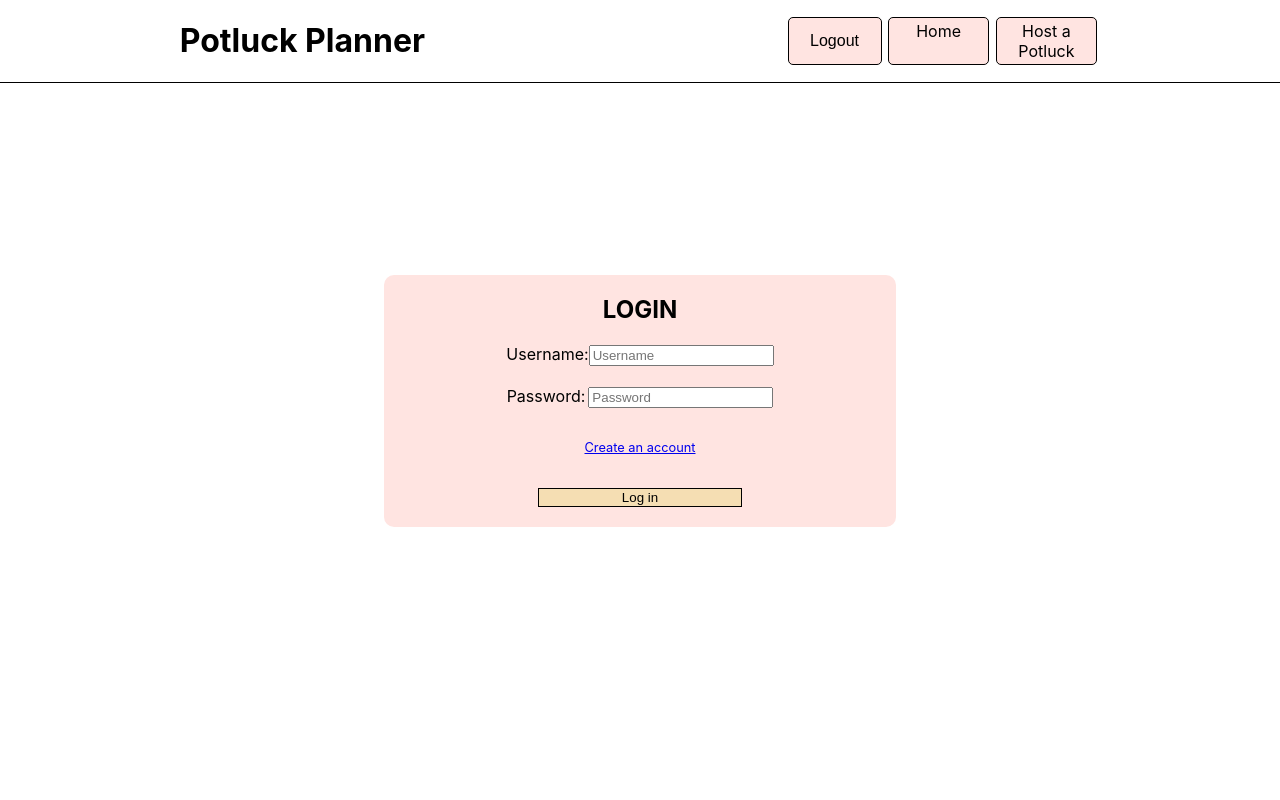
Test: Input and login button › verify the error messages appear when you dont meet the requirements
Type "joebay24" into the field named "username" at (682, 356), box top-left (589, 345), bottom-right (774, 366)
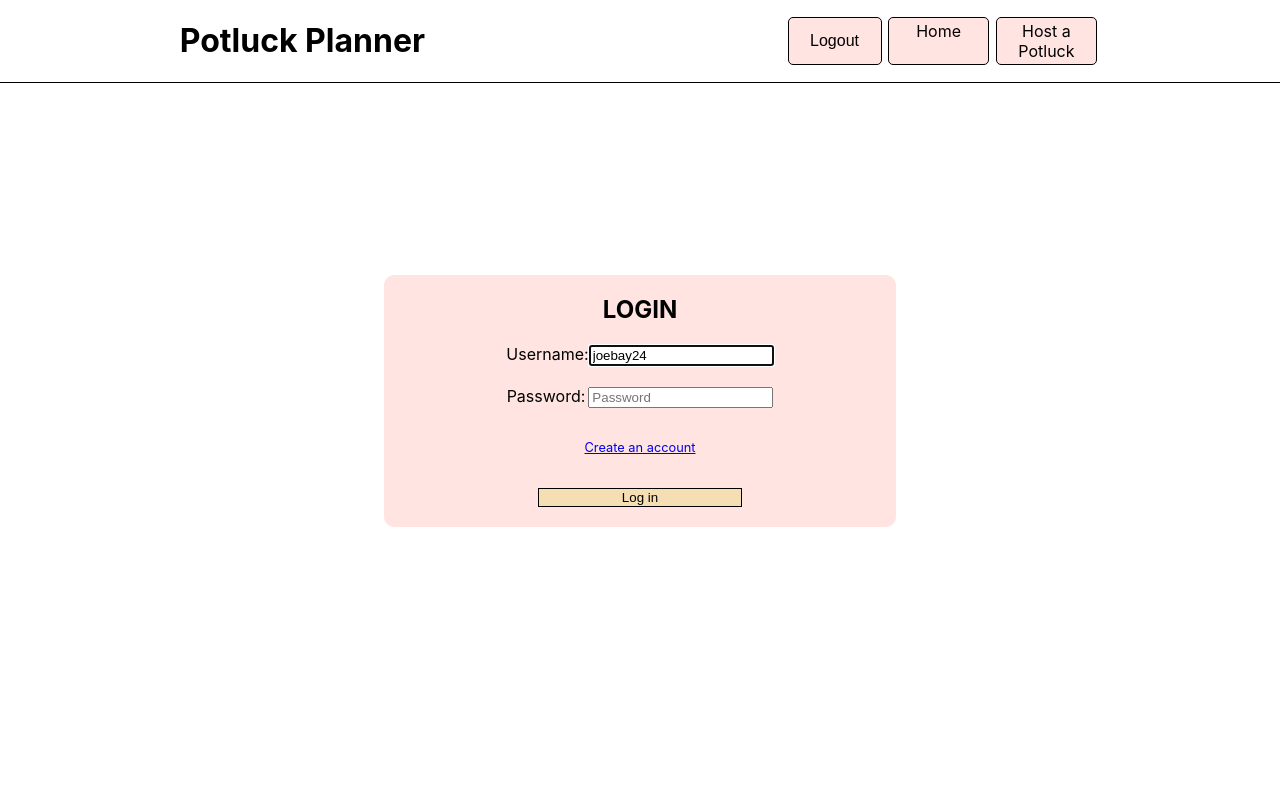
Clear the field named "username" at (682, 356), box top-left (589, 345), bottom-right (774, 366)
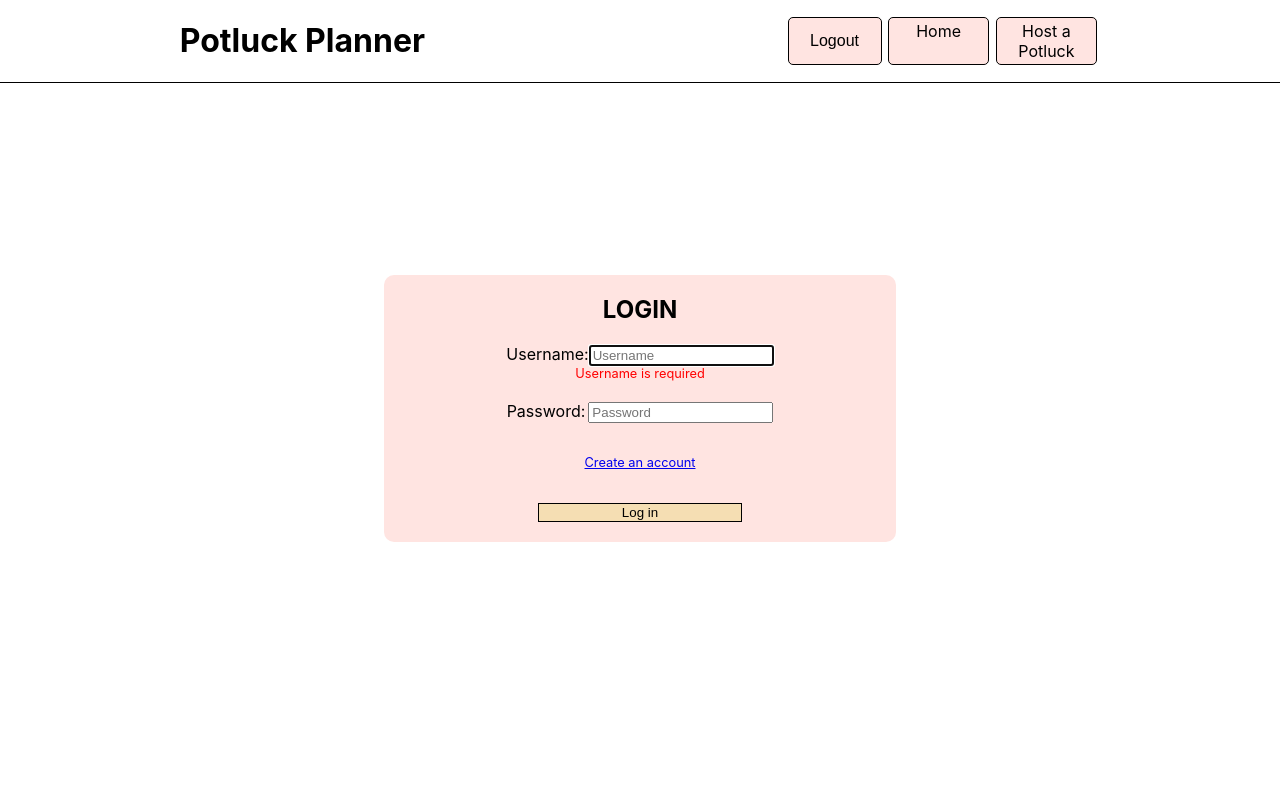
Type "password" into the password field named "password" at (681, 413), box top-left (588, 402), bottom-right (773, 423)
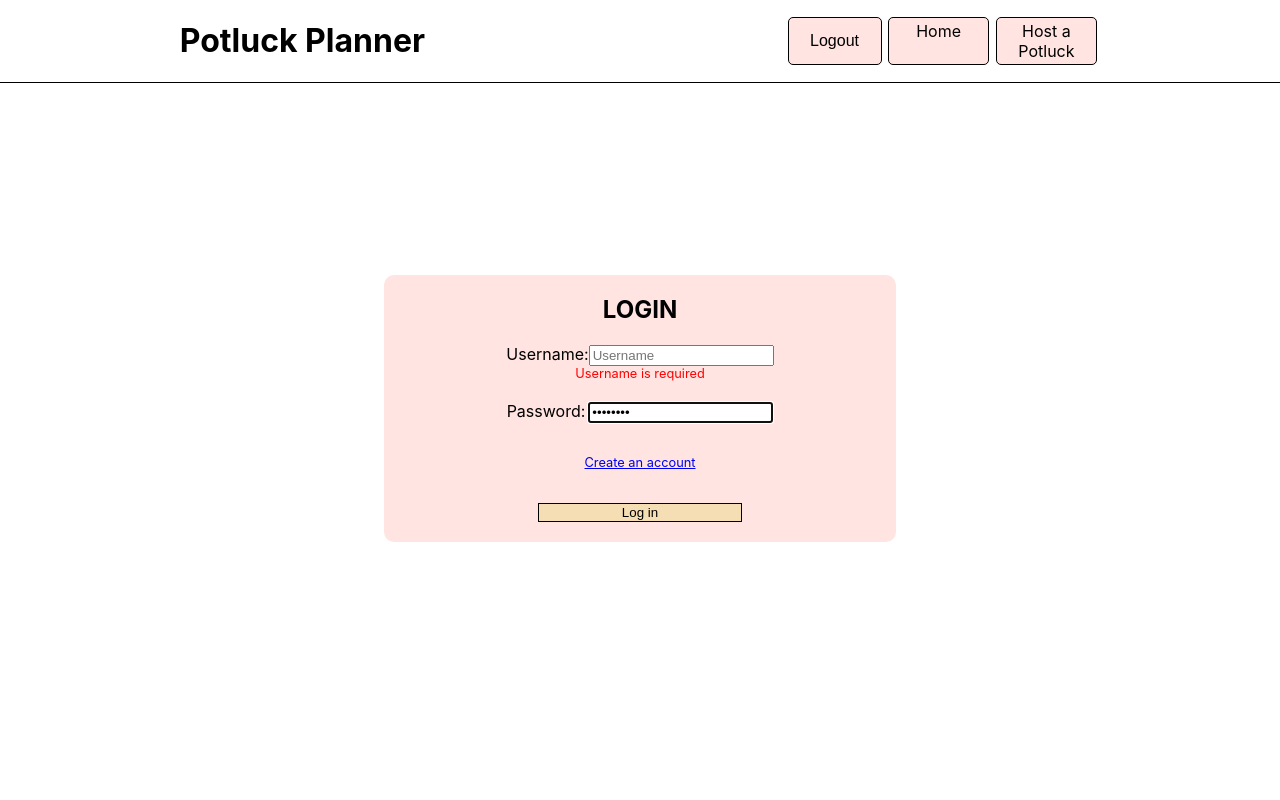
Clear the password field named "password" at (681, 413), box top-left (588, 402), bottom-right (773, 423)
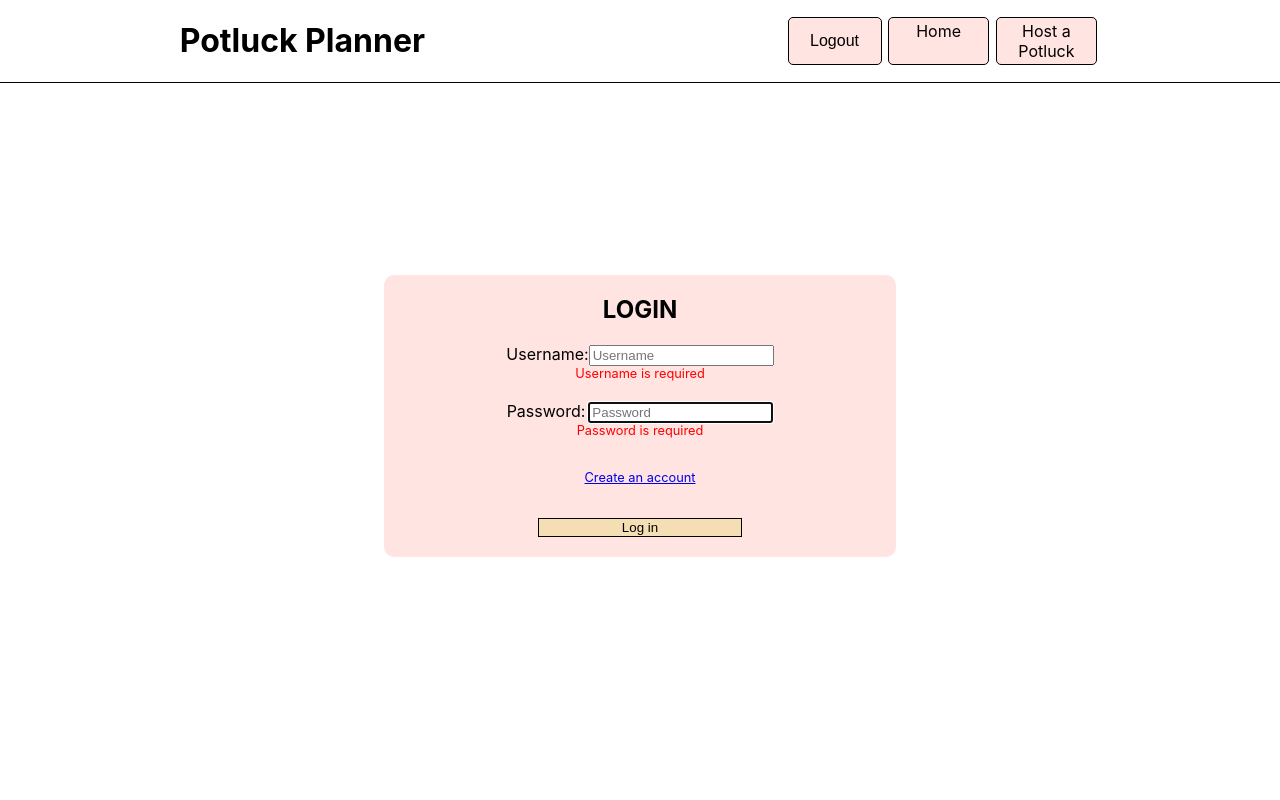
Result: the text "Username is required" is shown at top-left (575, 366), bottom-right (705, 381)
Result: the text "Password is required" is shown at top-left (577, 423), bottom-right (703, 438)
